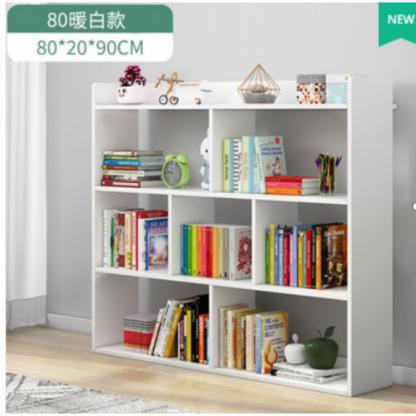lamp: (90, 78, 396, 399)
